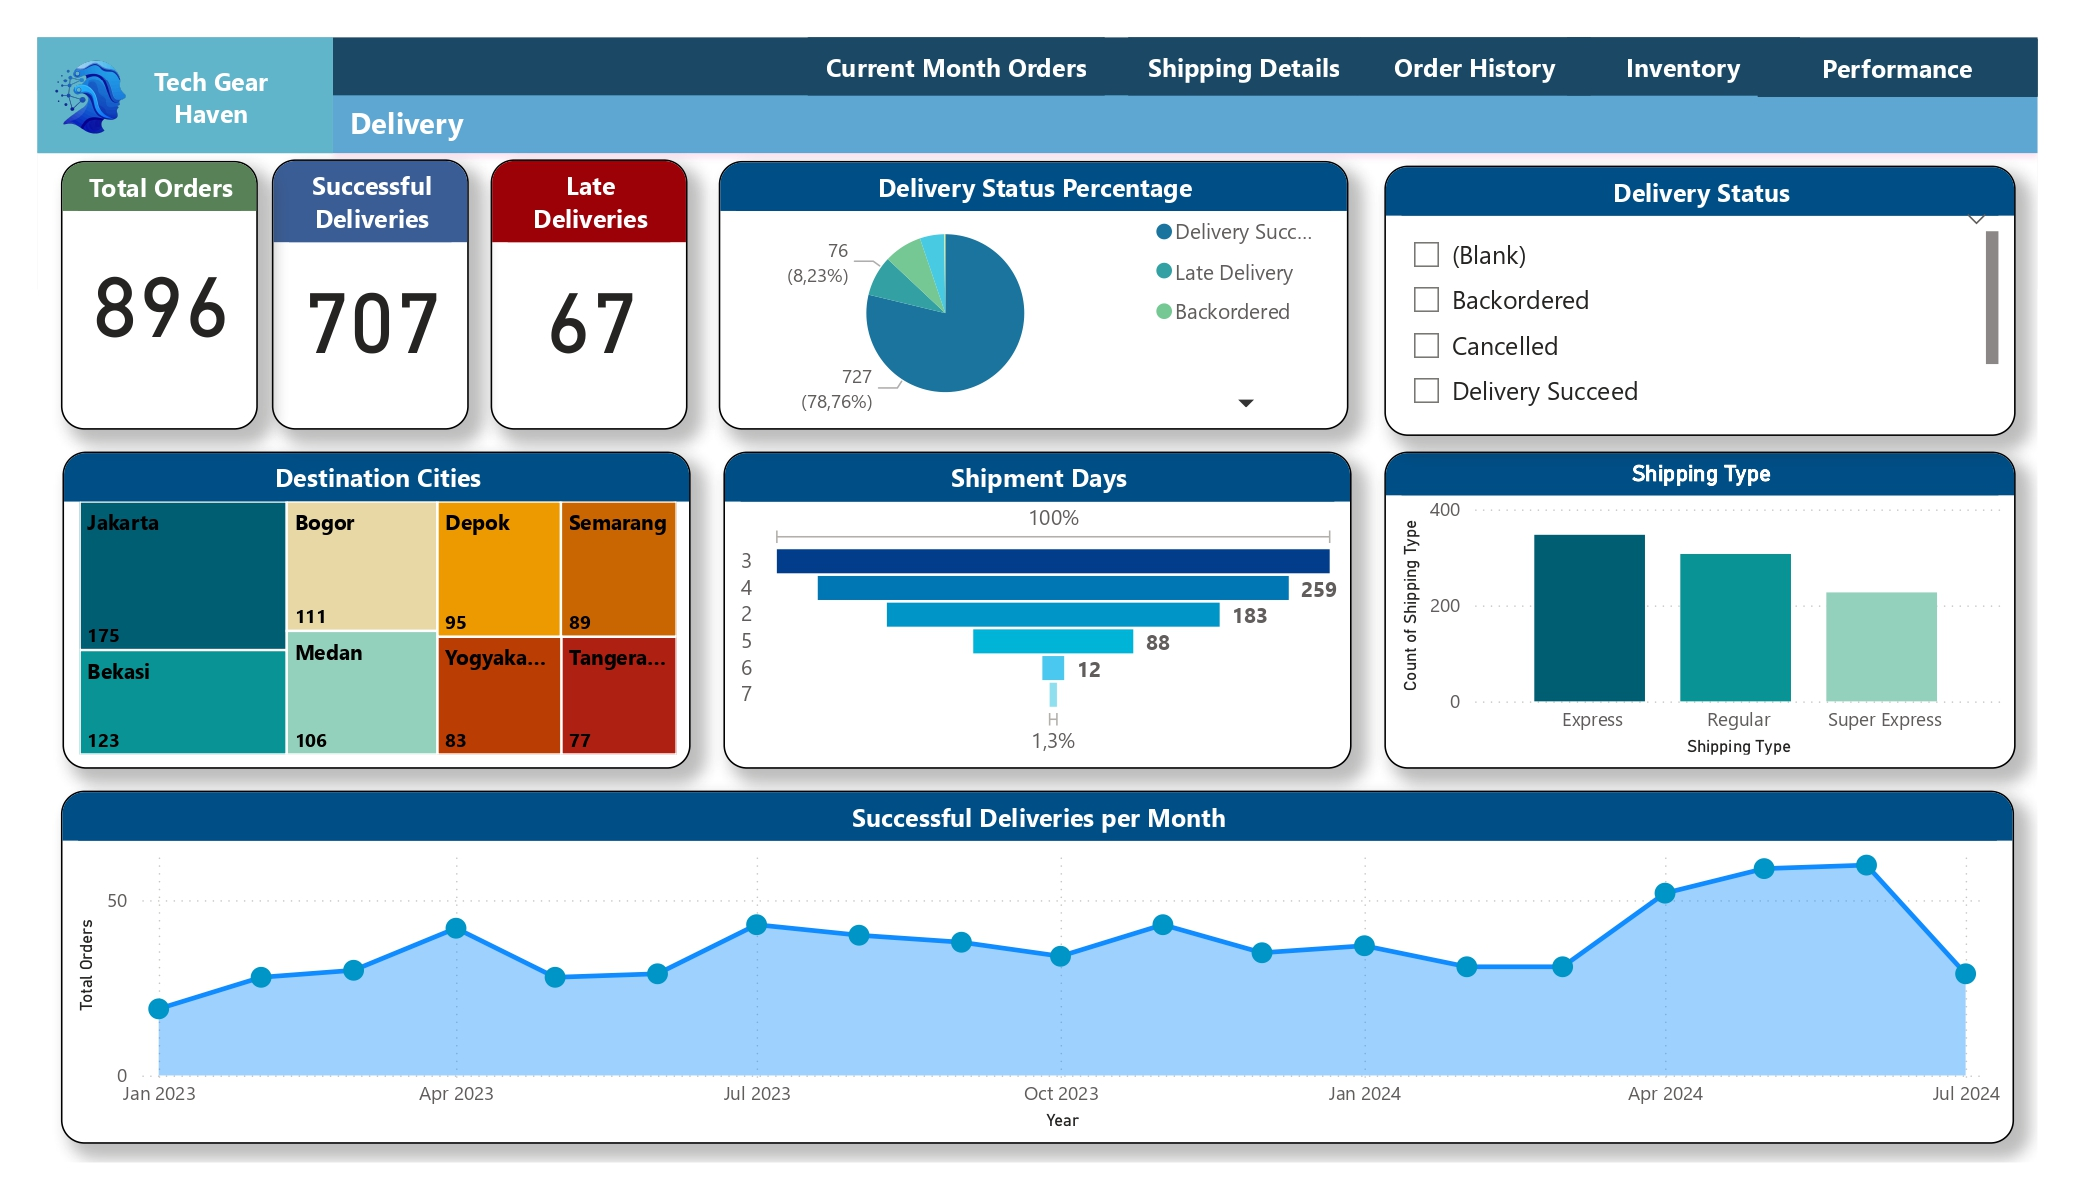

The dashboard page shown, as its layout file describes it:
{"tool":"powerbi","page":{"name":"Delivery","canvas":[1280,720],"ordinal":3},"visuals":[{"type":"shape","title":"Horizontal Shape","box":[188.9,36.2,1090.8,37.5],"z":0},{"type":"shape","title":"Horizontal Shape","box":[189.1,0.2,1090.4,36.9],"z":1000},{"type":"shape","box":[0,0,188.9,74.4],"z":2000},{"type":"columnChart","title":"Shipping Type","fields":{"Category":["Orders.Shipping Type"],"Y":["CountNonNull(Orders.Shipping Type)"]},"box":[861.8,265.3,403.7,203.2],"z":3000},{"type":"funnel","title":"Shipment Days","fields":{"Category":["Orders.Days"],"Y":["Count(Orders.OrderID)"]},"box":[438.7,265.3,402.4,203.2],"z":4000},{"type":"card","title":"Late Deliveries","fields":{"Values":["Current Month Orders.Count of OrderID for Late Delivery"]},"box":[289.6,78.4,126.3,172.4],"z":5000},{"type":"treemap","title":"Destination Cities","fields":{"Group":["Orders.DestinationCity"],"Values":["Count(Orders.OrderID)"]},"box":[15.5,265.3,402.4,203.2],"z":6000},{"type":"card","title":"Successful Deliveries","fields":{"Values":["Current Month Orders.Count of OrderID for Delivery Succeed"]},"box":[149.9,78.4,126.3,172.4],"z":7000},{"type":"areaChart","title":"Successful Deliveries per Month","fields":{"Category":["Orders.Order Date.Variation.Date Hierarchy.Year","Orders.Order Date.Variation.Date Hierarchy.Month"],"Y":["Current Month Orders.Total of Delivery Succeed for all orders"]},"box":[15,481.7,1250,226.7],"z":8000},{"type":"pieChart","title":"Delivery Status Percentage","fields":{"Y":["CountNonNull(Orders.Delivery Status)"],"Category":["Orders.Delivery Status"]},"box":[436.4,79,402.8,172.4],"z":9000},{"type":"slicer","title":"Delivery Status","fields":{"Values":["Orders.Delivery Status"]},"box":[861.8,81.5,403.7,173.4],"z":10000},{"type":"textbox","title":"Report Title","box":[195.2,37.2,438.7,36.5],"z":11000},{"type":"textbox","box":[50.5,11.6,121.6,53.1],"z":12000},{"type":"image","box":[0,5.6,66.7,64.4],"z":13000},{"type":"card","title":"Total Orders","fields":{"Values":["Count(Orders.OrderID)"]},"box":[14.9,78.8,126.3,172.4],"z":14000},{"type":"pageNavigator","box":[846,0,148.3,36.7],"z":15000},{"type":"pageNavigator","box":[492.6,0,190,36.7],"z":16000},{"type":"pageNavigator","box":[697.6,0,148.3,36.7],"z":17000},{"type":"pageNavigator","box":[979.3,0,148.3,36.7],"z":18000},{"type":"pageNavigator","box":[1101.2,1.3,178.6,36.2],"z":19000}]}

Visuals, with their boxes on the page's 1280x720 design canvas (x1, y1, x2, y2). These are canvas units, not pixel positions in the 2075x1200 screenshot, which may show the page scaled, cropped or inside an application window:
"Horizontal Shape" shape: 189:36:1280:74
"Horizontal Shape" shape: 189:0:1280:37
shape: 0:0:189:74
"Shipping Type" columnChart: 862:265:1266:468
"Shipment Days" funnel: 439:265:841:468
"Late Deliveries" card: 290:78:416:251
"Destination Cities" treemap: 16:265:418:468
"Successful Deliveries" card: 150:78:276:251
"Successful Deliveries per Month" areaChart: 15:482:1265:708
"Delivery Status Percentage" pieChart: 436:79:839:251
"Delivery Status" slicer: 862:82:1266:255
"Report Title" textbox: 195:37:634:74
textbox: 50:12:172:65
image: 0:6:67:70
"Total Orders" card: 15:79:141:251
pageNavigator: 846:0:994:37
pageNavigator: 493:0:683:37
pageNavigator: 698:0:846:37
pageNavigator: 979:0:1128:37
pageNavigator: 1101:1:1280:38
